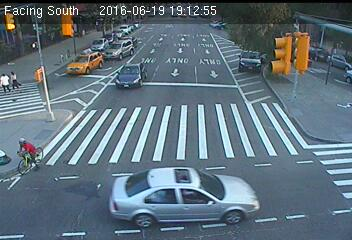neg: (15, 129, 48, 173), (282, 100, 312, 139), (59, 169, 85, 205), (269, 60, 292, 91), (202, 131, 225, 161), (258, 146, 280, 176), (162, 63, 184, 92), (126, 59, 144, 83), (169, 154, 187, 178), (132, 121, 149, 144), (320, 58, 337, 81), (126, 176, 141, 196), (211, 58, 225, 77), (250, 55, 263, 73)
pos: (1, 68, 18, 93), (6, 65, 23, 88)
